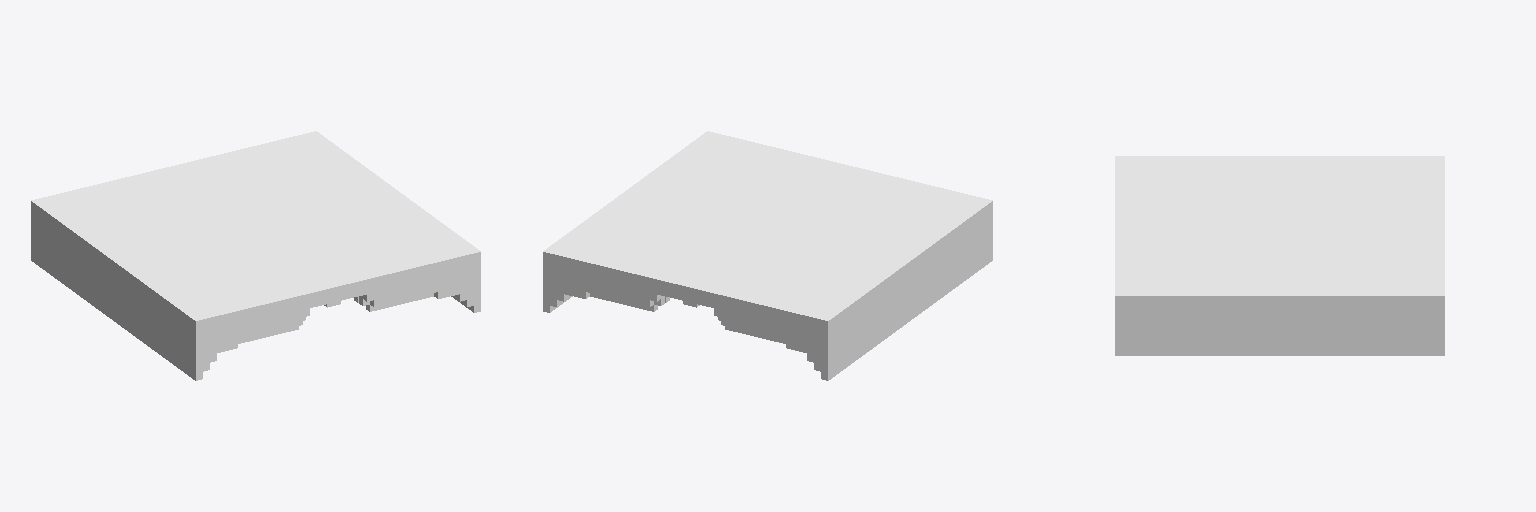
File: Roof1.obj
The picture shows the model from 3 angles: view 1: azimuth 30°, elevation 25°; view 2: azimuth 150°, elevation 25°; view 3: azimuth 270°, elevation 25°; orthographic projection.
Visible parts, largest first — view 1: object 1; view 2: object 1; view 3: object 1.
Part boxes in pixels (x1,y1,x2,y2): object 1: (31, 131, 480, 380); object 1: (543, 131, 992, 380); object 1: (1115, 156, 1444, 355).
Size of the model in its own units: 4 by 0.8 by 4.